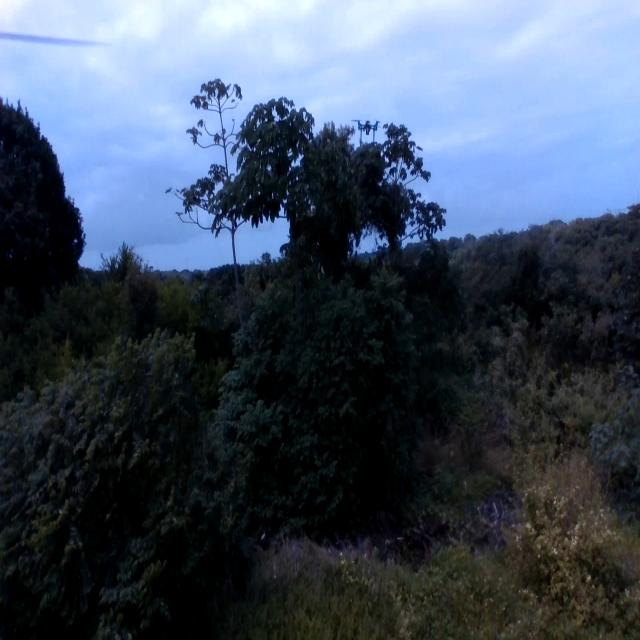-uav-: (346, 102, 386, 150)
